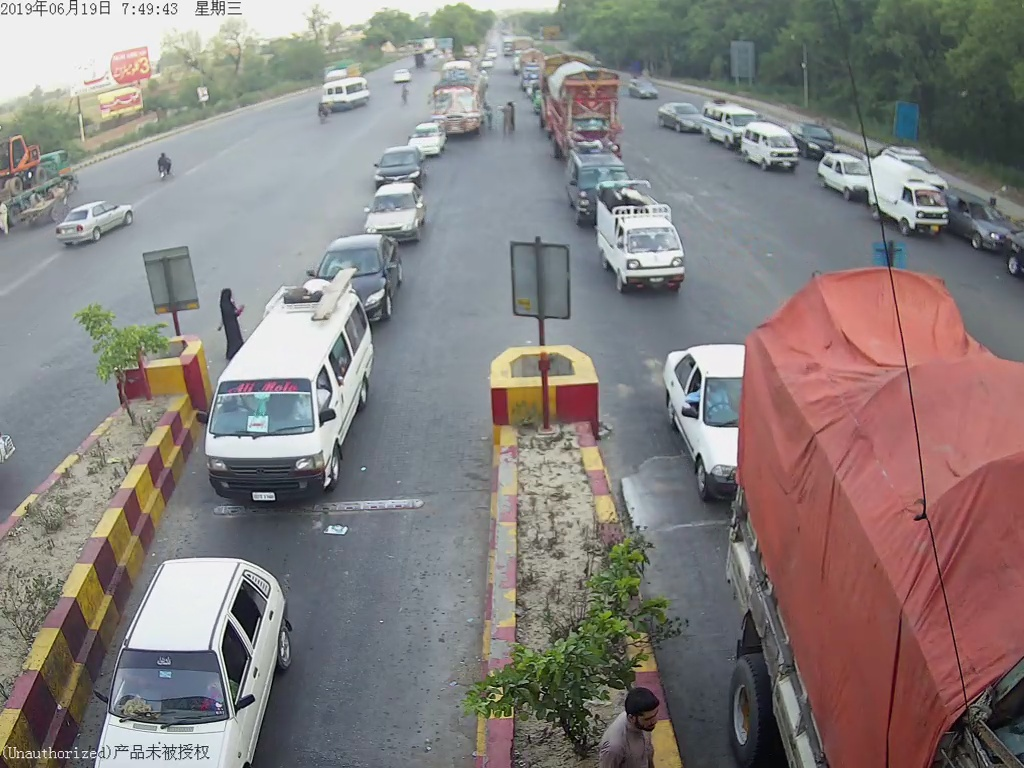Cat-1: (664, 341, 767, 499), (600, 191, 694, 293), (318, 236, 402, 325), (366, 181, 431, 247)
Cat-2: (201, 279, 369, 496)
Cat-3: (429, 59, 496, 134)
Cat-4: (538, 60, 624, 160)
